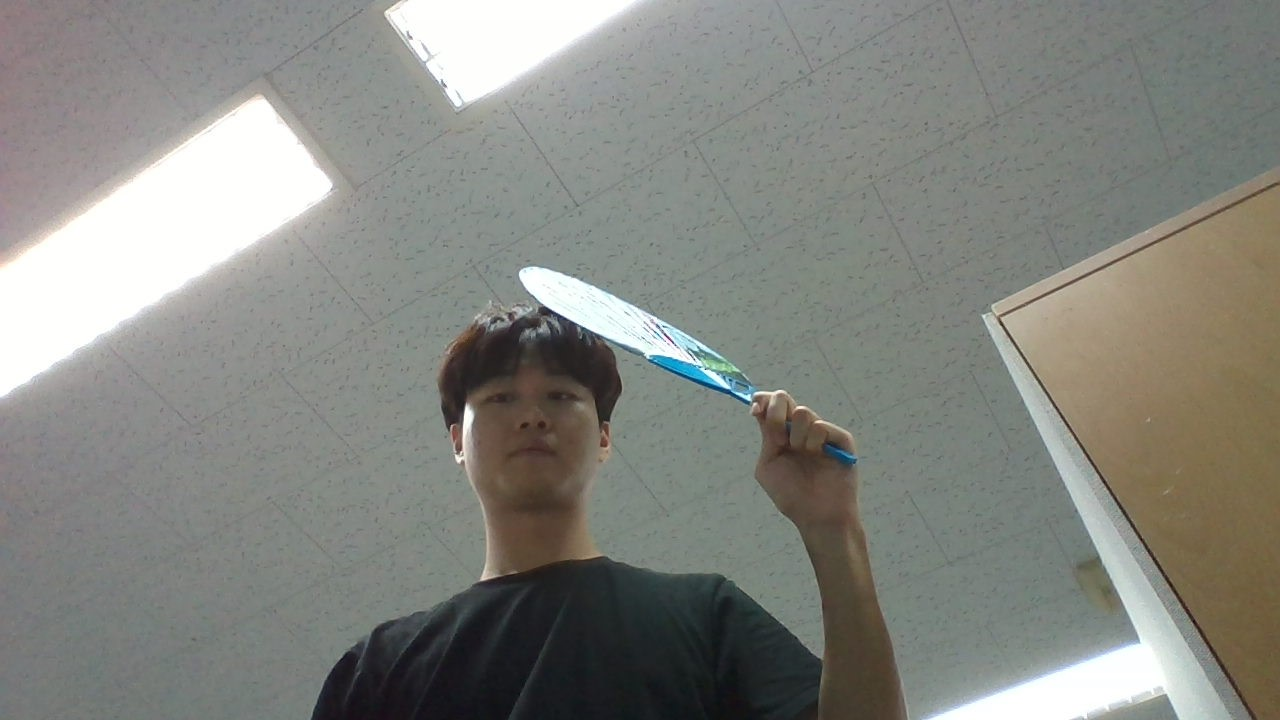Non-Helmet: (419, 282, 641, 528)
